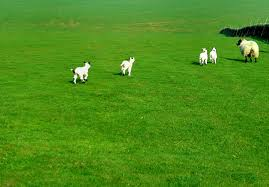sheep: (231, 37, 261, 63), (117, 55, 141, 81), (70, 60, 94, 84), (199, 47, 209, 69), (208, 46, 217, 68)
